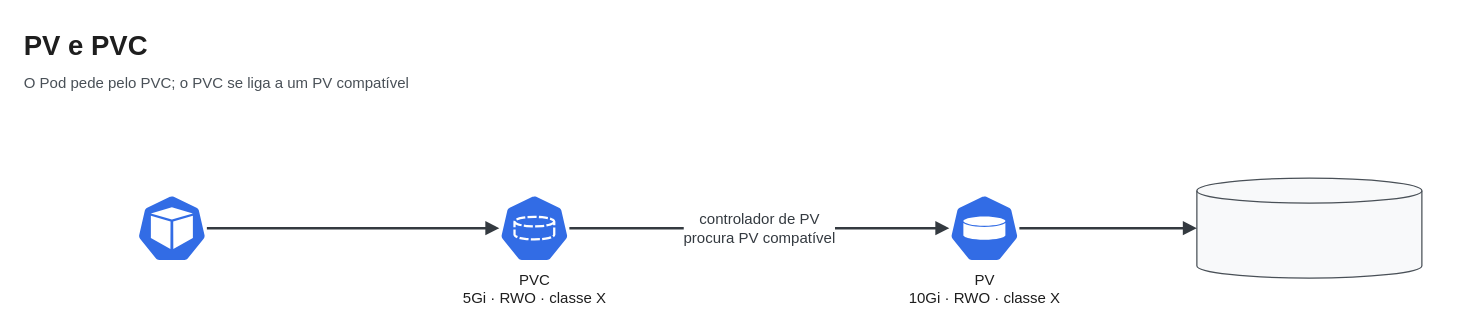
Some shapes in this 1468 by 329 pixel diagram are drawn without their labels. The shapes that lost their labels are listed below. From the top down, each one's centre as x and y in pixels, then its label:
At point (171, 227): "Pod volumes: persistentVolumeClaim".
At point (1309, 227): "disco real NFS, hostPath, CSI...".
